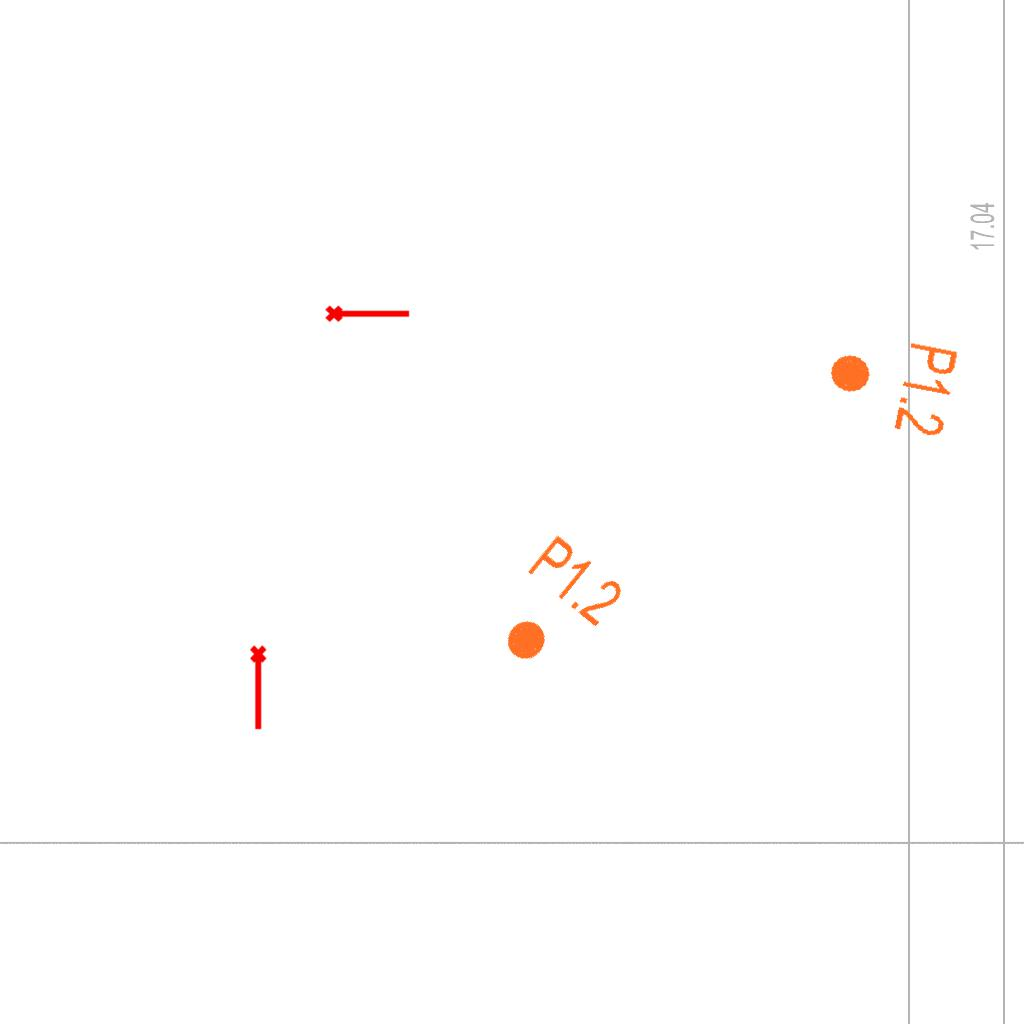ASR_Ansaugoeffnung: (248, 644, 271, 732), (324, 301, 412, 324)
Downlight_LED_Einbauleuchten_Flur: (477, 529, 630, 689), (818, 325, 963, 441)
